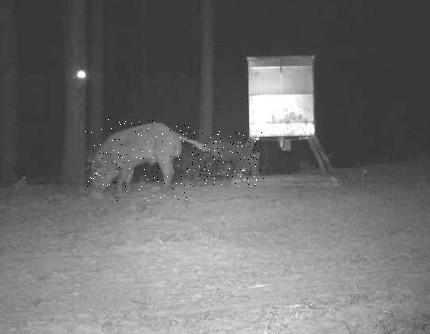Hog: (84, 118, 190, 202), (190, 131, 264, 187)
